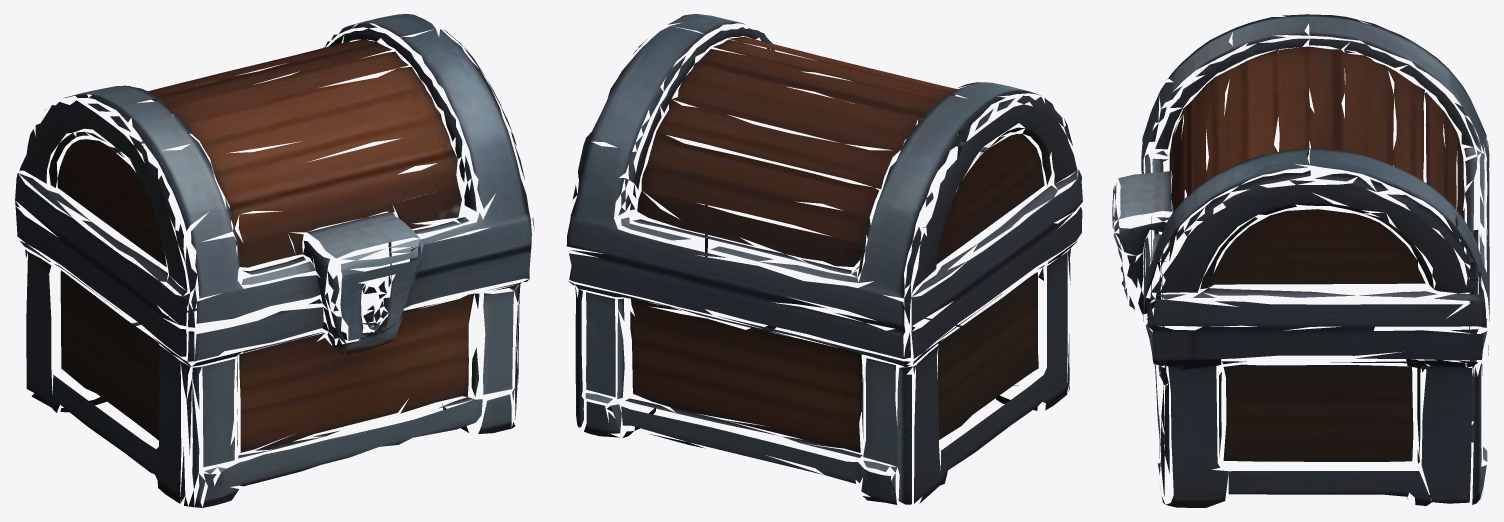
Rendered from treasure_chest.glb.
3 views of the same model, side by side, from view 1: azimuth 30°, elevation 25°; view 2: azimuth 150°, elevation 25°; view 3: azimuth 270°, elevation 25° (orthographic). The views are drawn at different scales.
Parts seen in each view (by area): view 1: world; view 2: world; view 3: world.
Part boxes in pixels (x1,y1,x2,y2): world: (15, 14, 534, 507); world: (566, 14, 1082, 504); world: (1112, 14, 1489, 507).
Bounding box in the file's own units: 0.4865 × 0.4601 × 0.4662.
1 material, 1 textured.
